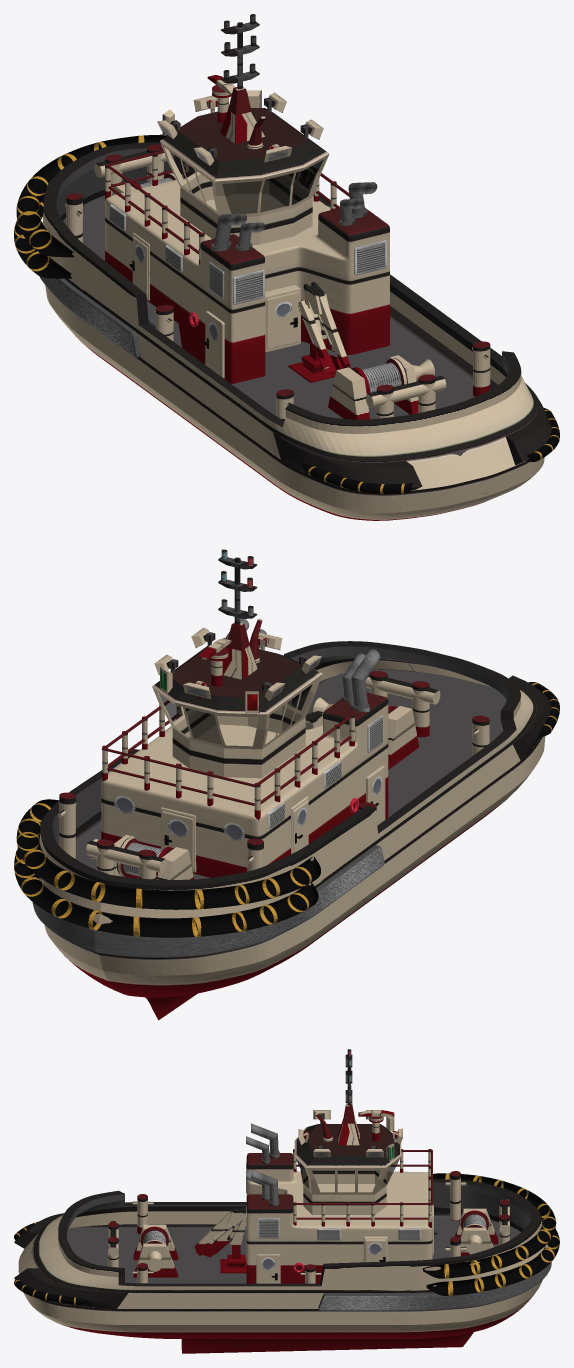
File: tugboat2.glb
3 renders of one model, top to bottom at view 1: azimuth 30°, elevation 25°; view 2: azimuth 150°, elevation 25°; view 3: azimuth 270°, elevation 25°, orthographic. The views are drawn at different scales.
Bounding box in the file's own units: 14.7 × 20.86 × 34.5.
17 materials, 16 textured.
